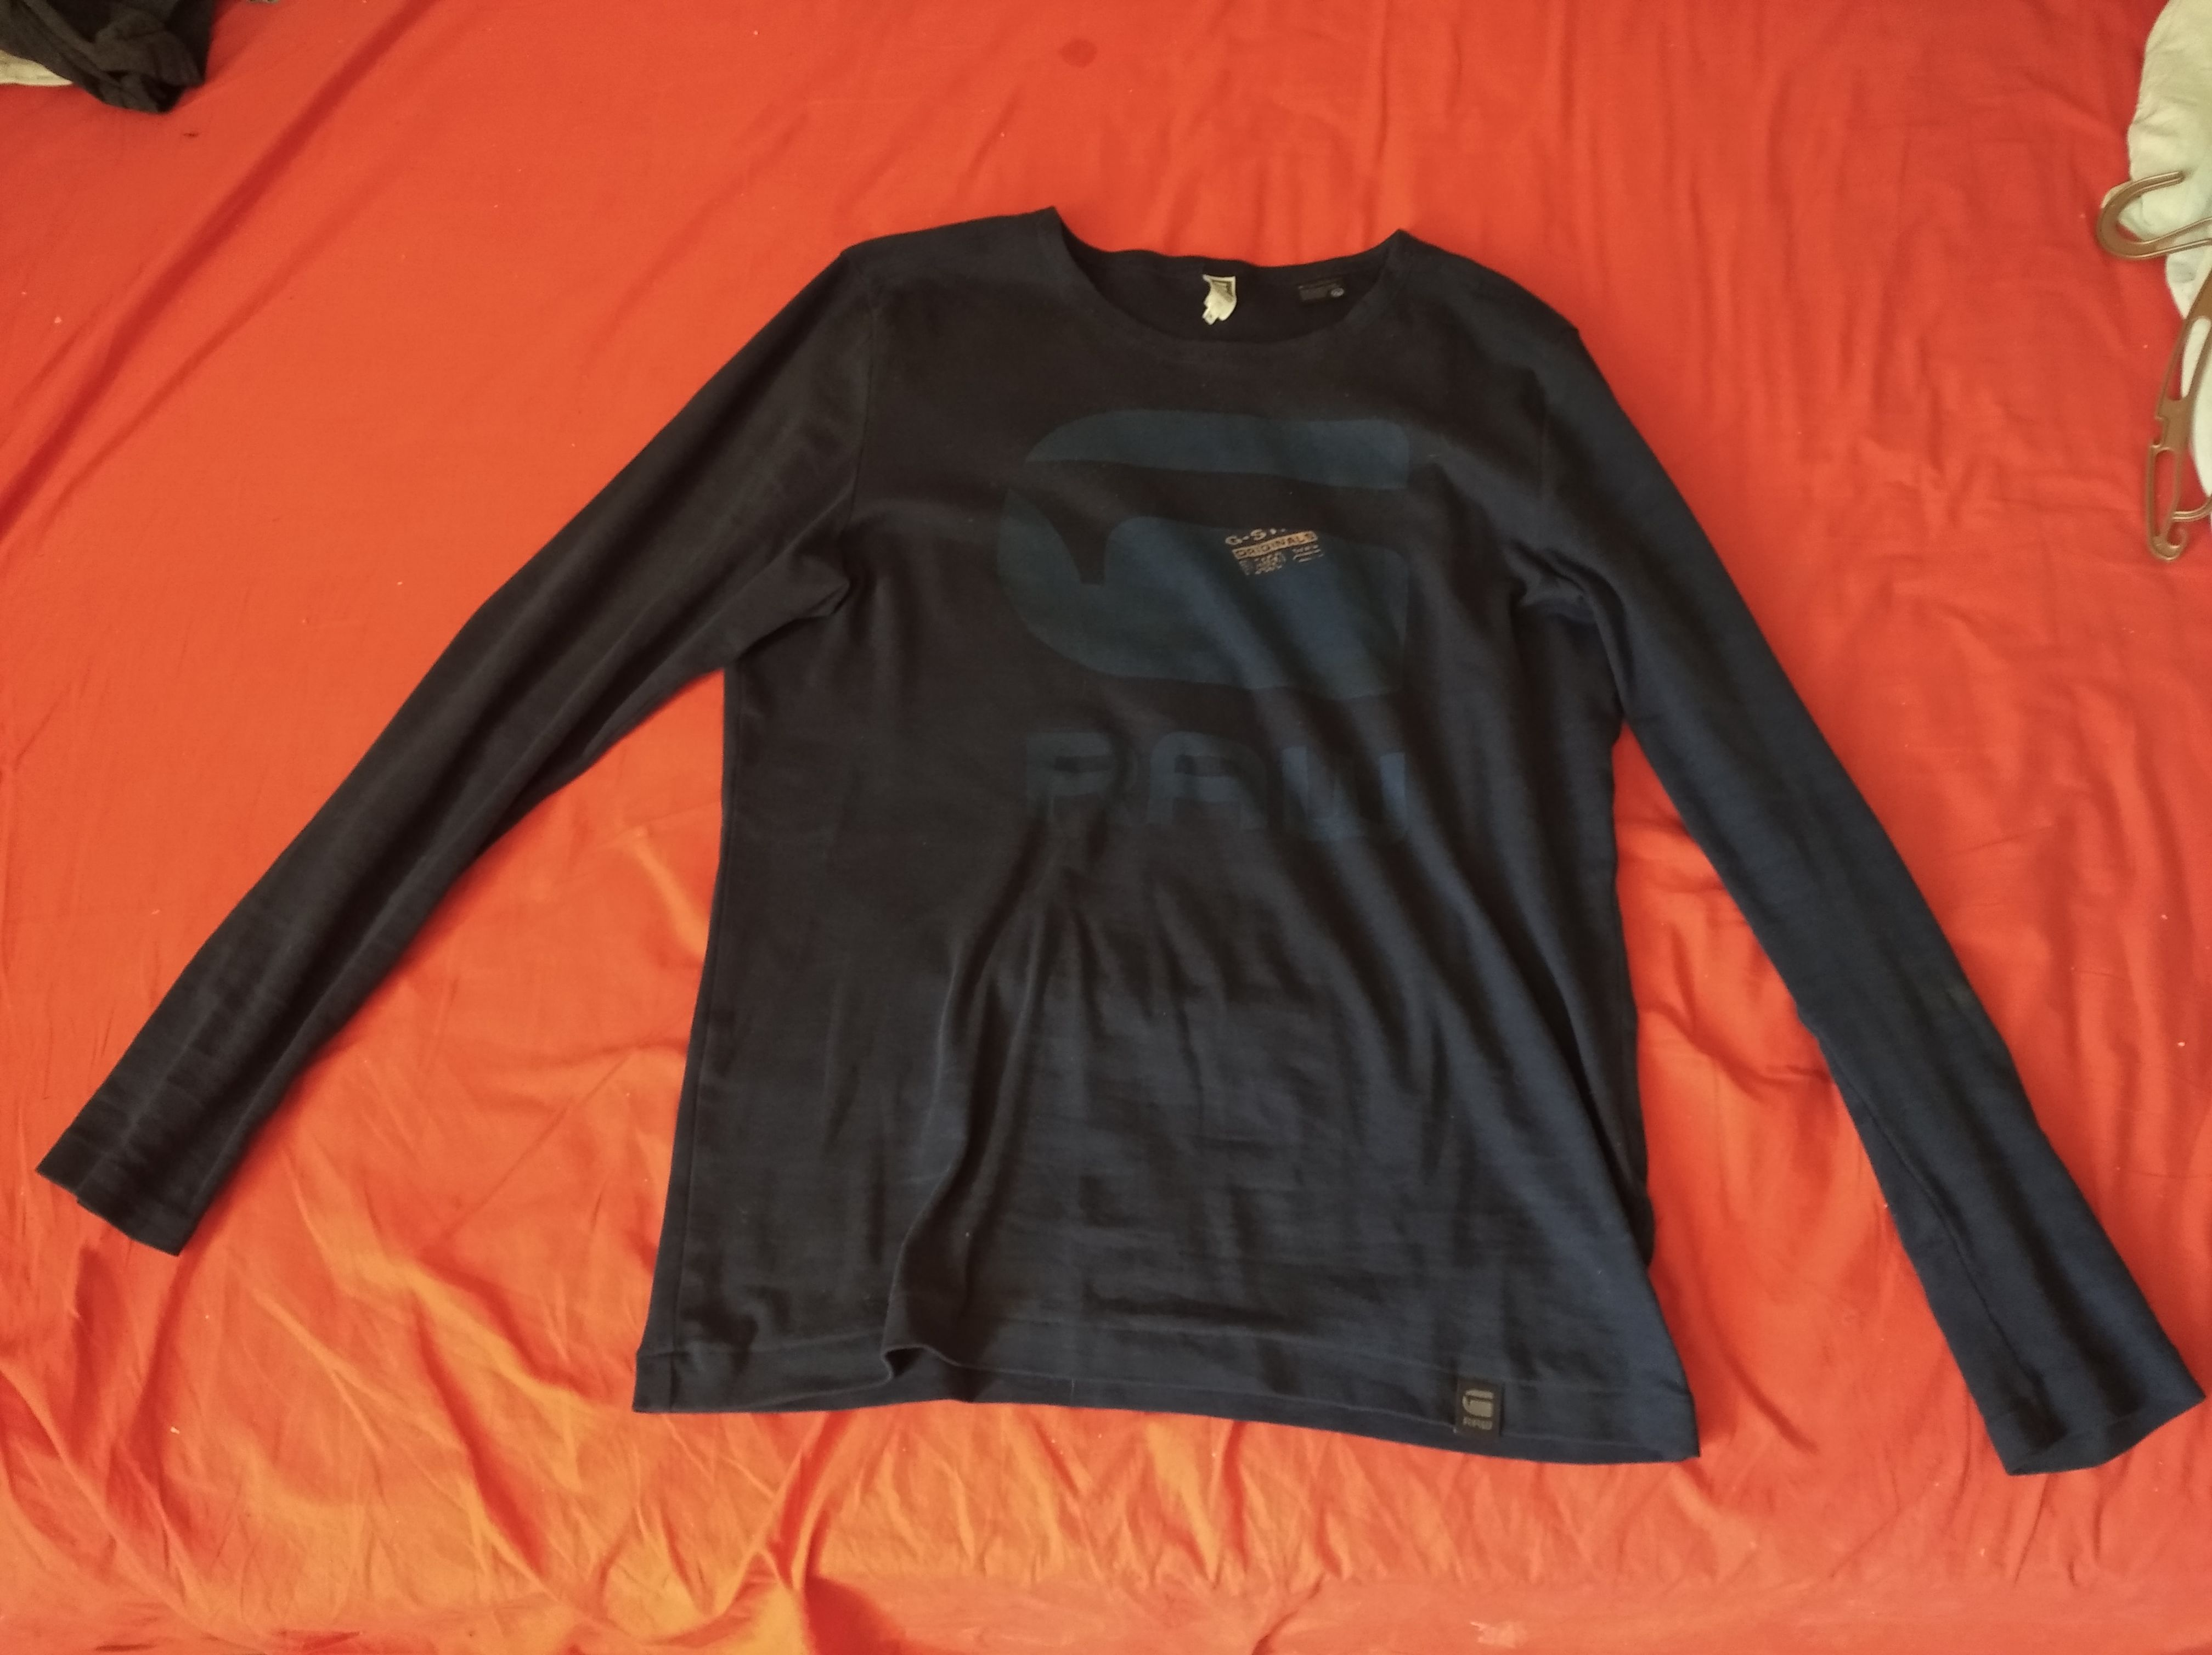clothes: (66, 202, 2177, 1476)
